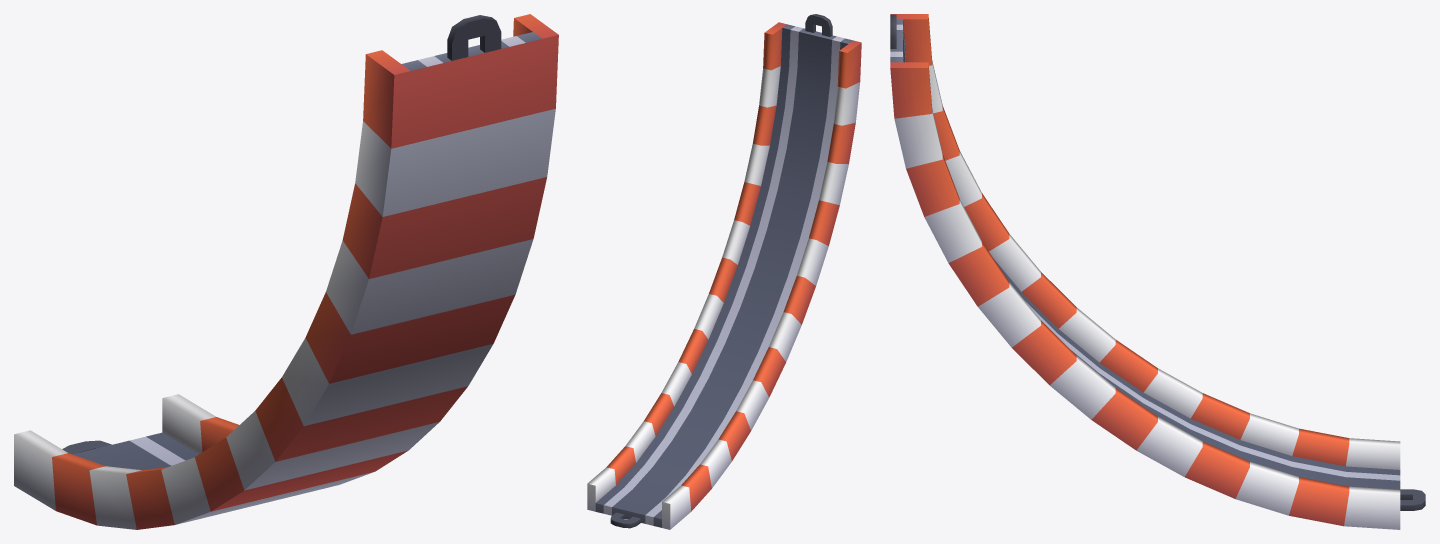
Rendered from kenney-toy-car-track-road-narrow-straight-bend-large.glb.
3 views of the same model, side by side, from view 1: azimuth 30°, elevation 25°; view 2: azimuth 150°, elevation 25°; view 3: azimuth 270°, elevation 25° (orthographic). The views are drawn at different scales.
Visible parts, largest first — view 1: track-road-narrow-straight-bend-large; view 2: track-road-narrow-straight-bend-large; view 3: track-road-narrow-straight-bend-large.
Boxes of the visible parts, box(x1,y1,x2,y2) form: track-road-narrow-straight-bend-large: box(14, 14, 558, 529); track-road-narrow-straight-bend-large: box(587, 14, 861, 529); track-road-narrow-straight-bend-large: box(890, 14, 1425, 529).
Size of the model in its own units: 0.9998 by 4.2 by 4.2.
Materials: 1 (1 with a texture image).
